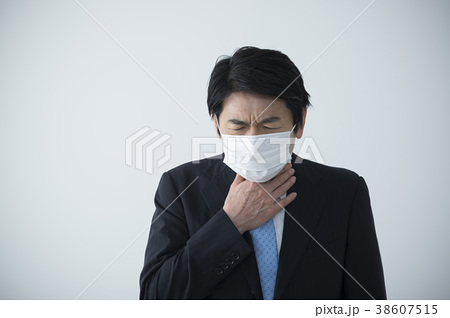mask: (220, 134, 297, 189)
